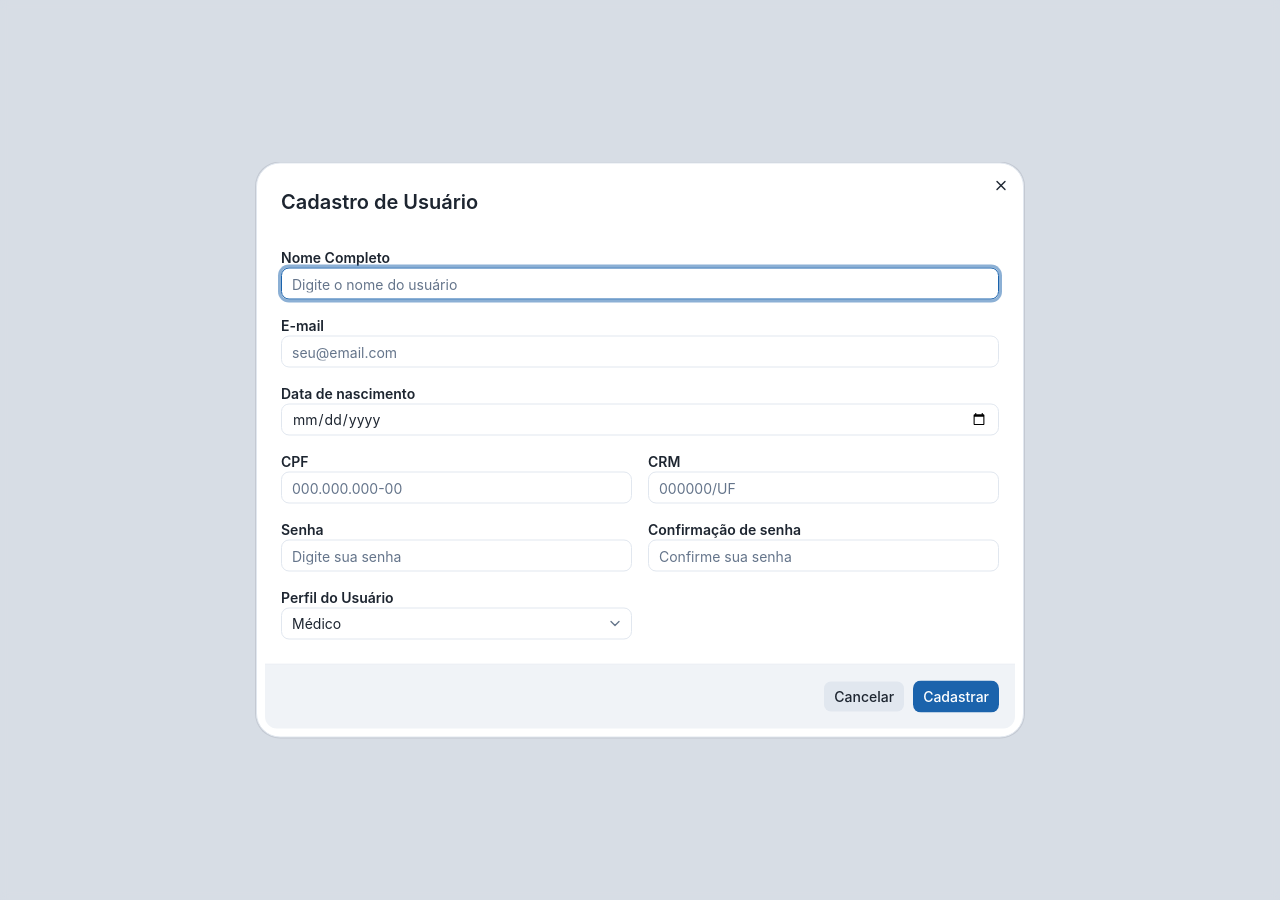
ModalNovoUser › deve formatar CPF e CRM enquanto o usuário digita
Type "12345678901" into the field with placeholder "000.000.000-00" at (456, 488), box [281,472,632,504]
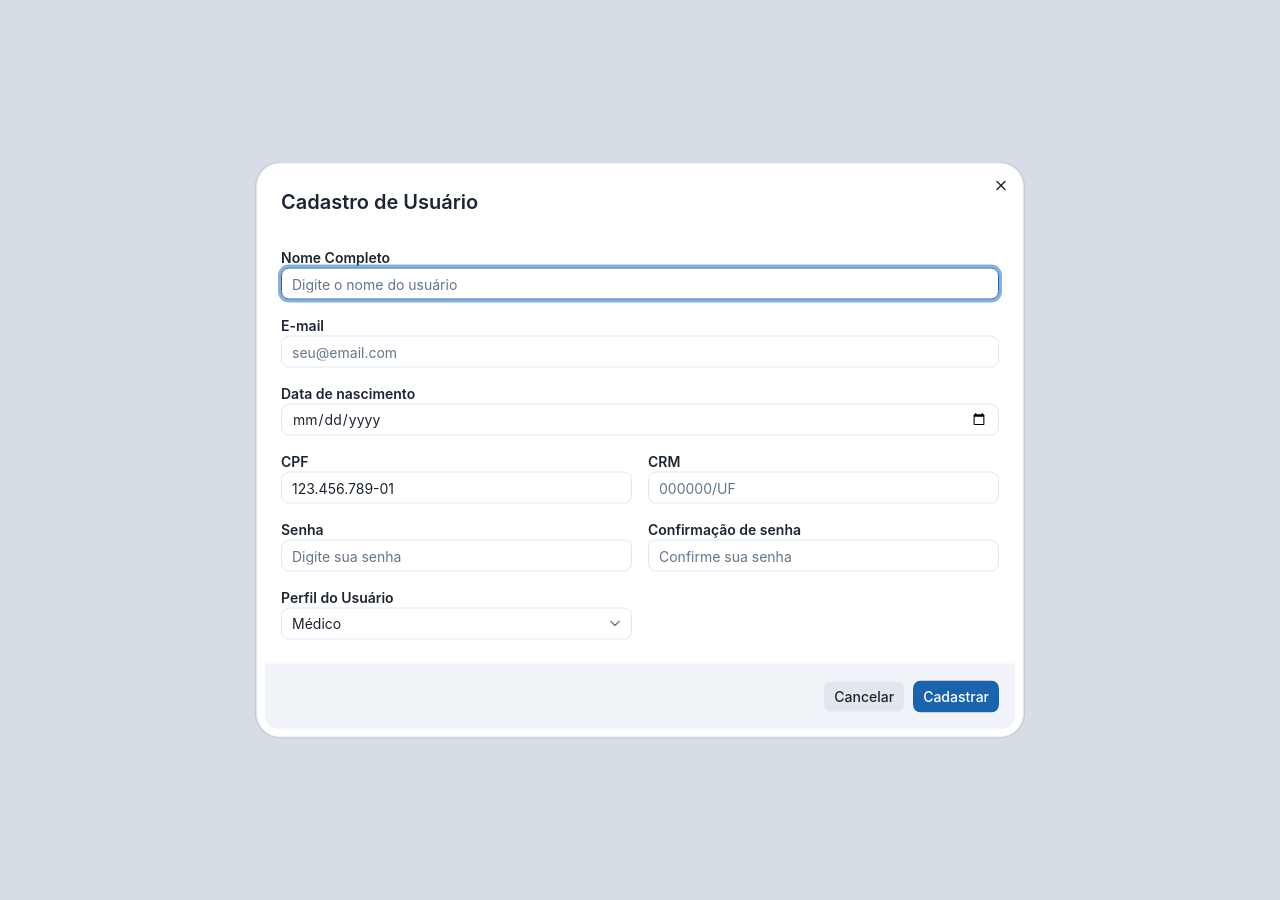
Expected: the field with placeholder "000.000.000-00" holds "123.456.789-01", [281,472,632,504]
Type "123456SP" into the field with placeholder "000000/UF" at (824, 488), box [648,472,999,504]
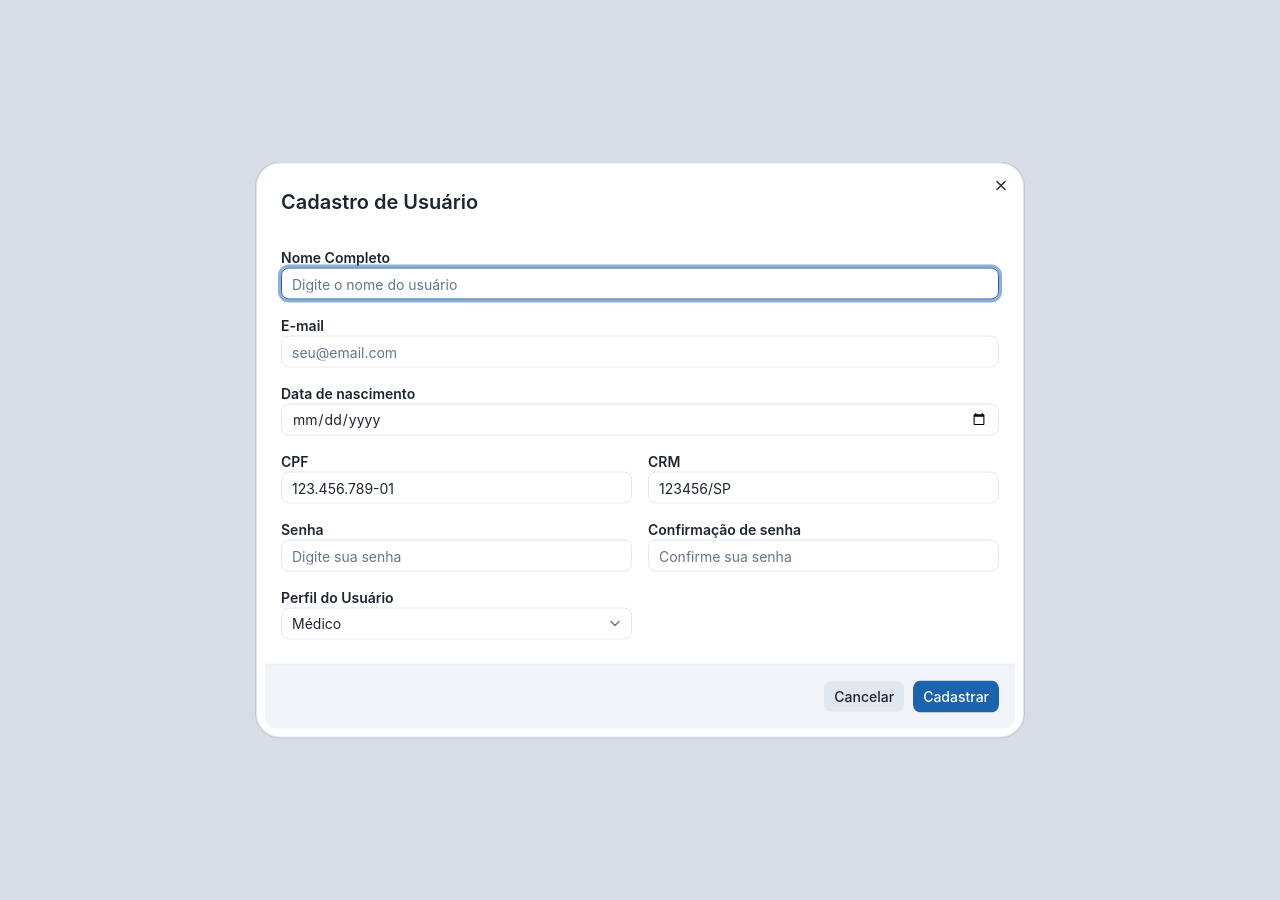
Expected: the field with placeholder "000000/UF" below "CRM" holds "123456/SP", [648,472,999,504]
